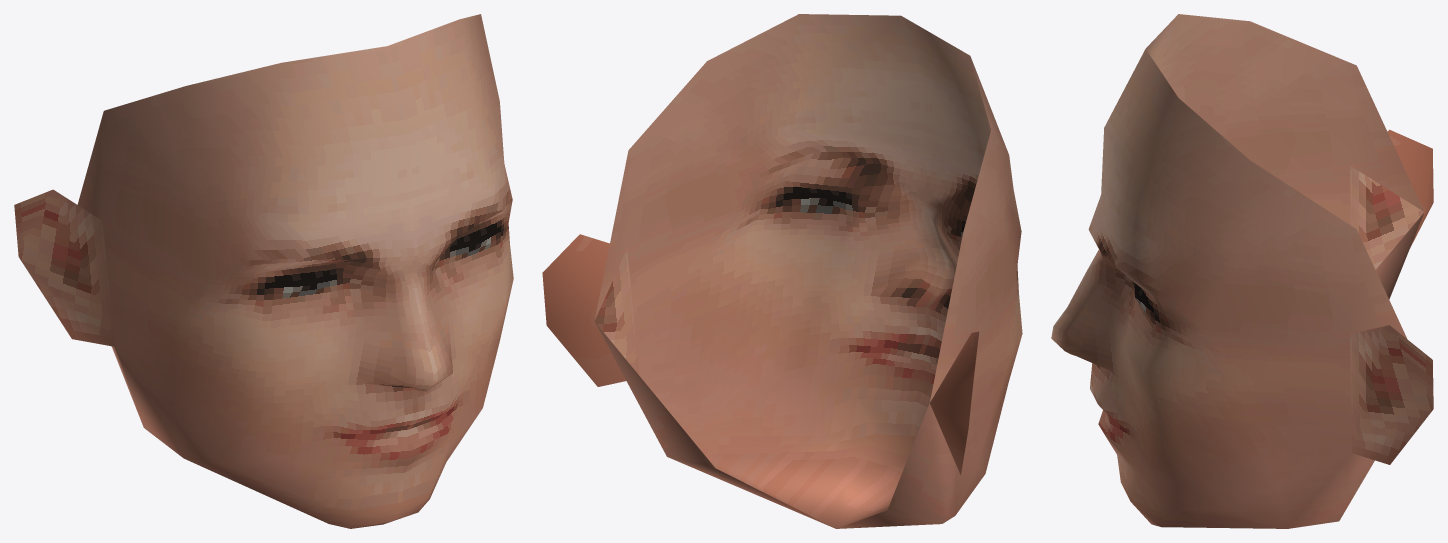
The picture shows the model from 3 angles, left to right: view 1: azimuth 30°, elevation 25°; view 2: azimuth 150°, elevation 25°; view 3: azimuth 270°, elevation 25°; orthographic projection. The views are drawn at different scales.
Bounding box in the file's own units: 19.4 × 20.02 × 14.86.
Materials: 1 (1 with a texture image).
